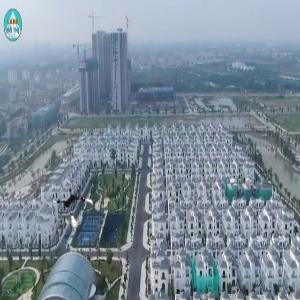drone: (52, 186, 96, 230)
